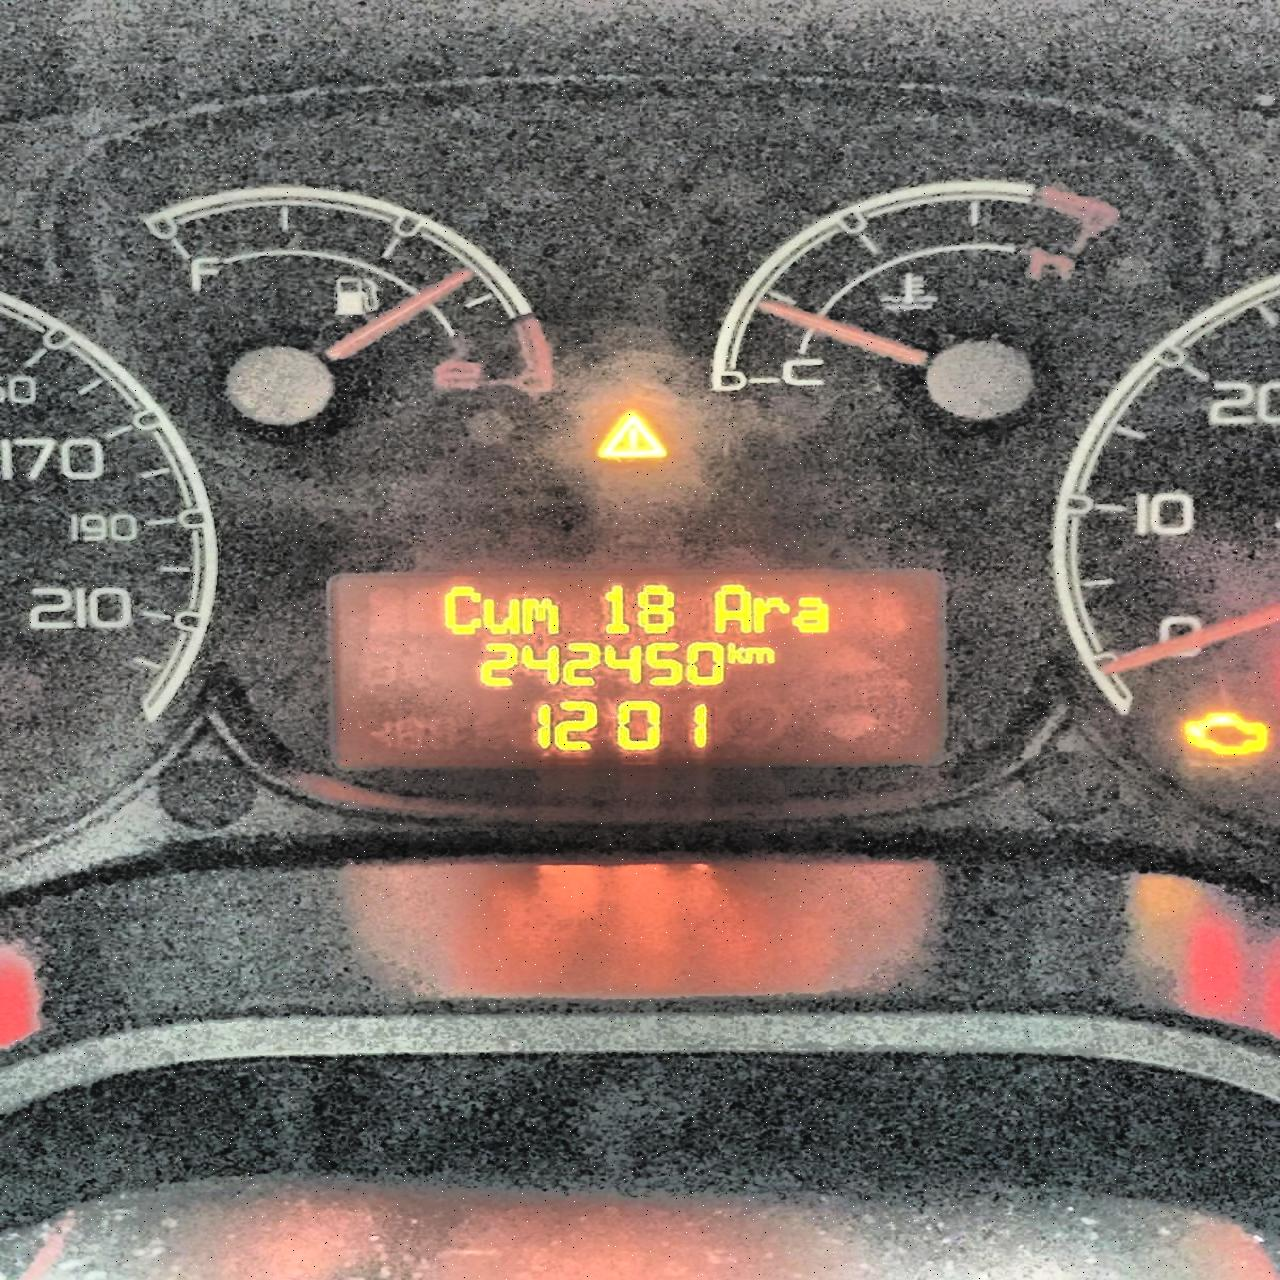0: (610, 696, 665, 753), (682, 639, 723, 687)
1: (599, 581, 633, 636), (682, 697, 715, 750), (525, 697, 552, 750)
2: (552, 697, 601, 753), (474, 640, 517, 688), (560, 639, 601, 688)
4: (518, 641, 559, 687), (601, 640, 642, 686)
5: (642, 639, 682, 688)
8: (634, 581, 678, 636)
X: (440, 580, 482, 639), (707, 581, 750, 636), (791, 593, 832, 635), (520, 595, 563, 636), (750, 593, 789, 635), (482, 594, 519, 638), (742, 645, 775, 665), (723, 639, 742, 666)
odometer: (319, 564, 959, 779)
